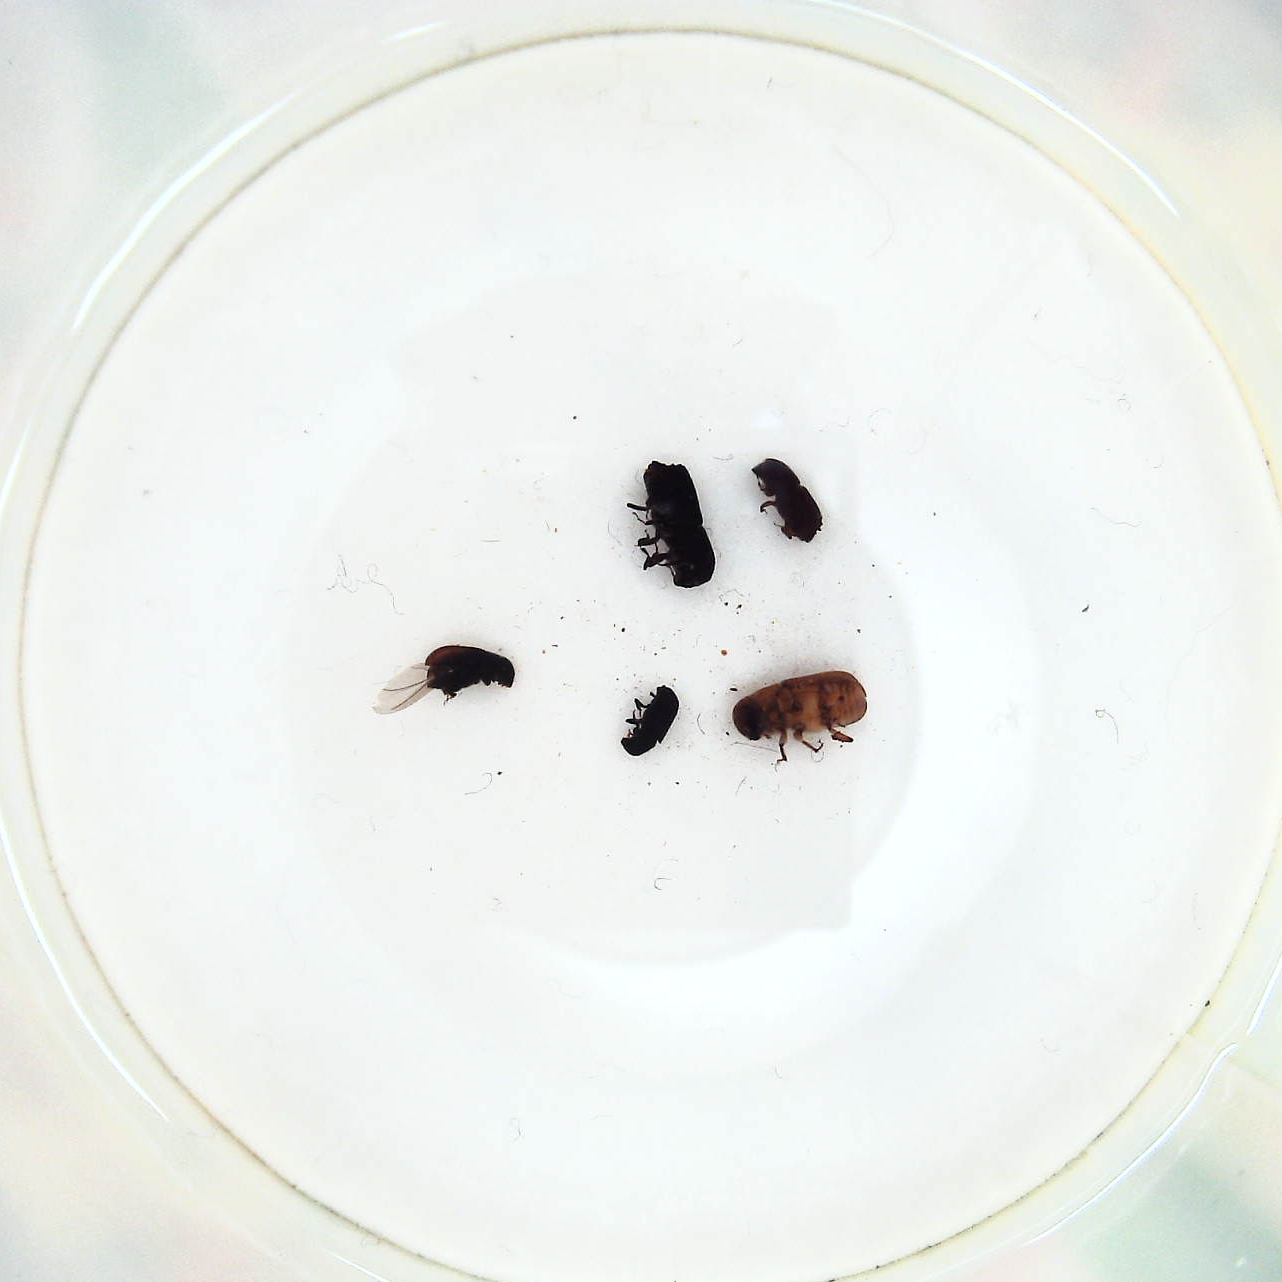Boerner: (630, 457, 720, 589)
Leconte: (728, 669, 877, 762)
armandi: (382, 643, 520, 711)
coleoptera: (610, 682, 681, 757)
linnaeus: (747, 456, 828, 545)
